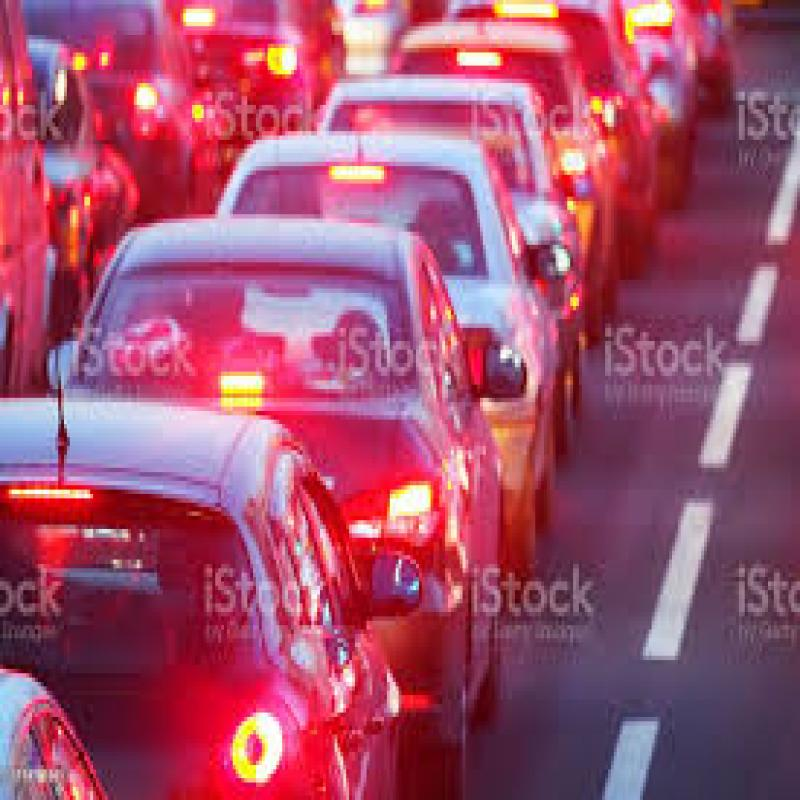car: (84, 191, 503, 757), (0, 369, 398, 800), (263, 107, 553, 556), (335, 62, 588, 438)
